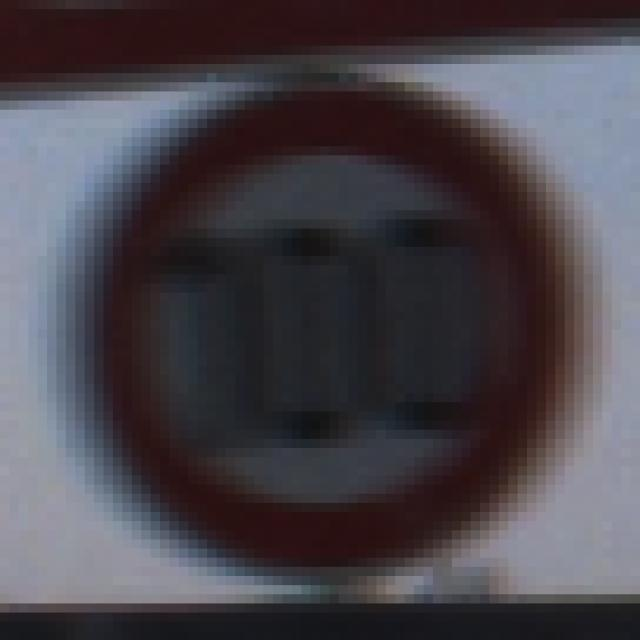speed limit 100: (72, 73, 582, 573)
